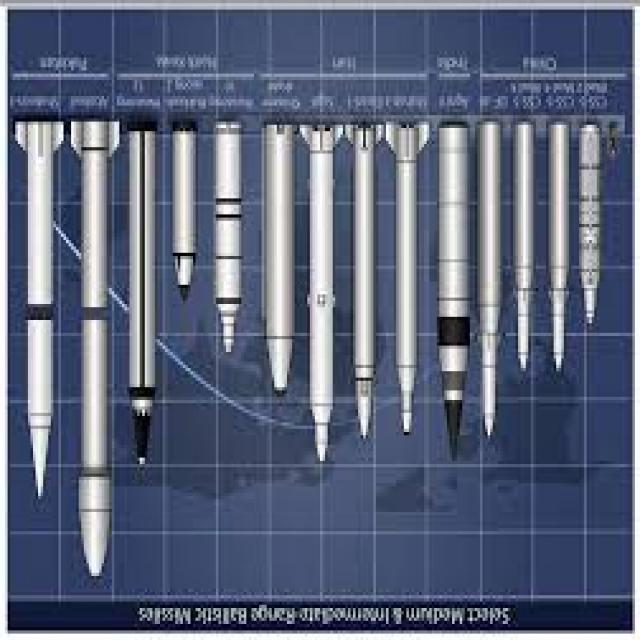Missile: (64, 119, 125, 585), (432, 117, 472, 462), (302, 114, 337, 469), (547, 112, 573, 384)
